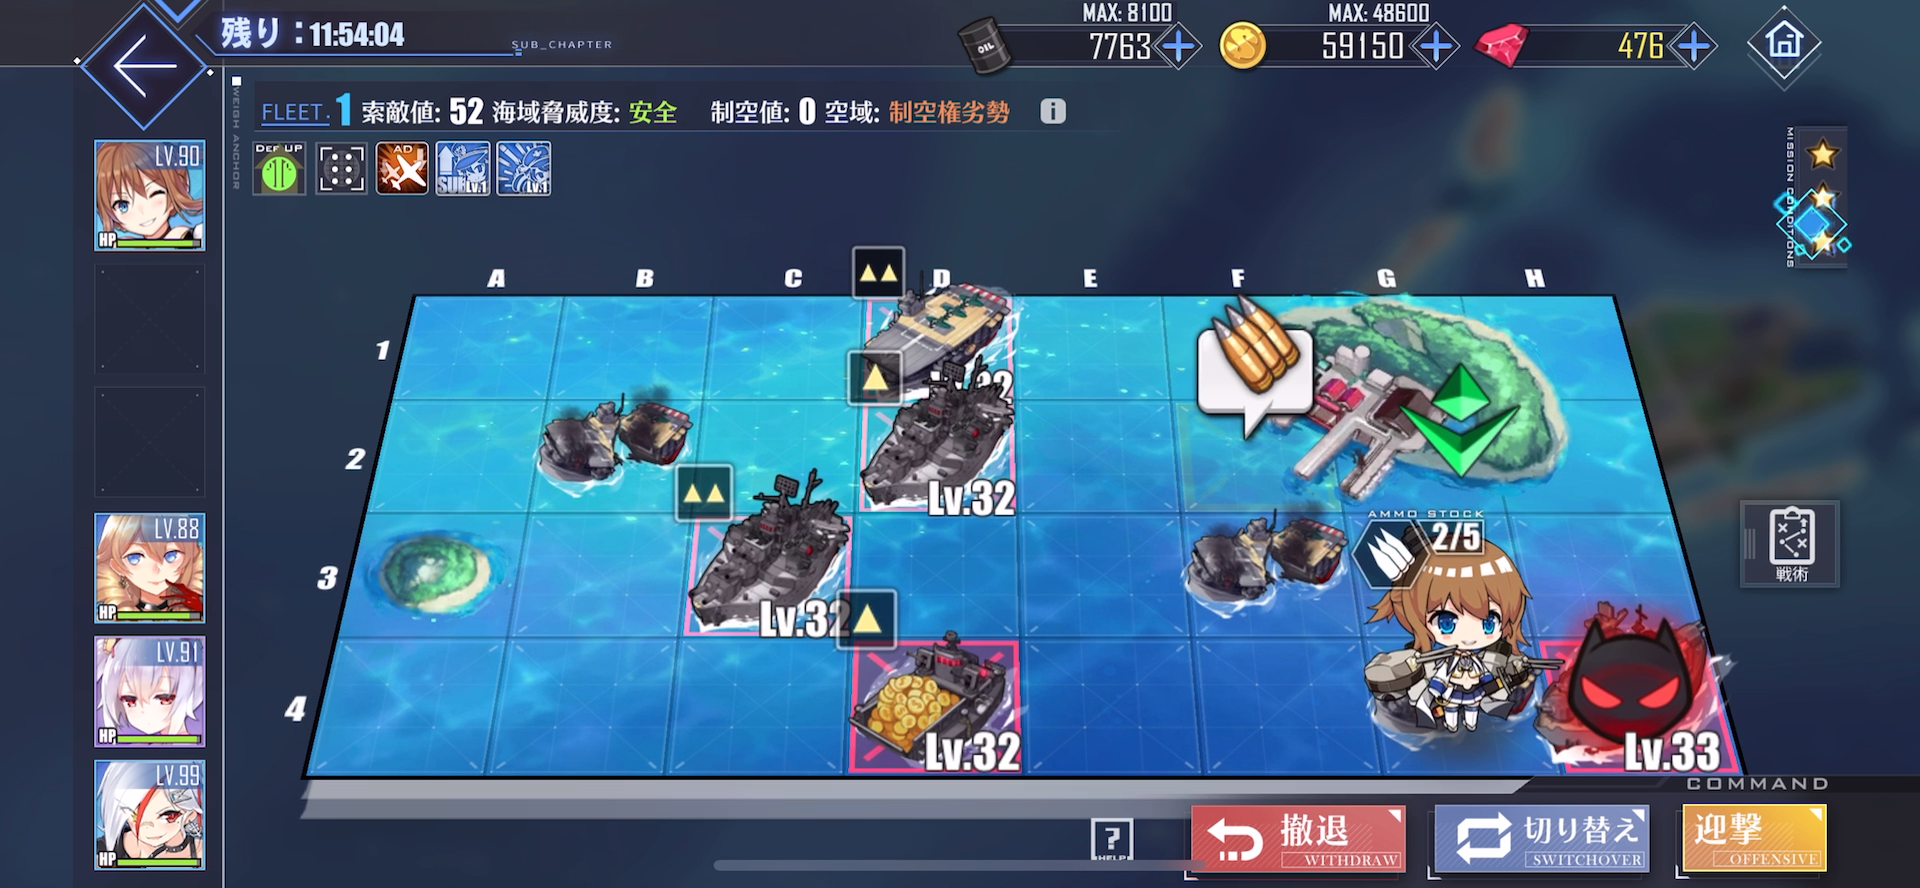boss: (1539, 611, 1738, 777)
lv1: (844, 601, 1027, 770), (856, 374, 1010, 511)
lv2: (673, 474, 839, 631), (862, 258, 1011, 399)
